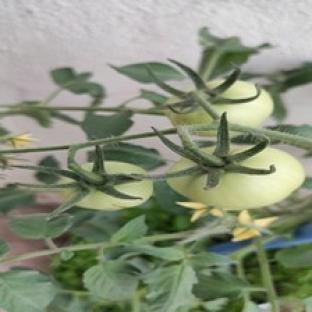Tomato: (168, 148, 305, 210), (76, 180, 153, 210), (212, 90, 272, 126)
